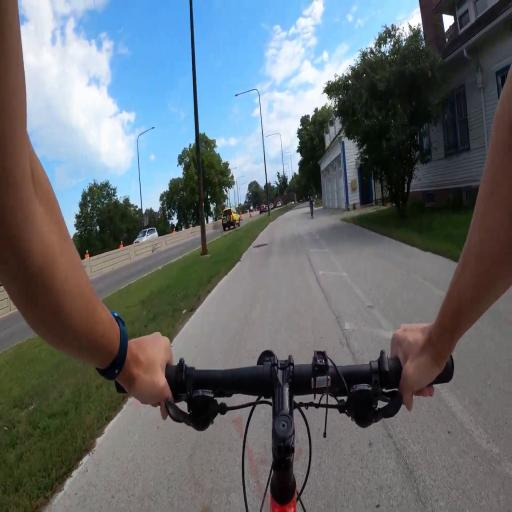Street_Light: (232, 81, 271, 208), (135, 121, 159, 219), (263, 127, 287, 194), (282, 145, 295, 190), (235, 168, 247, 208)
